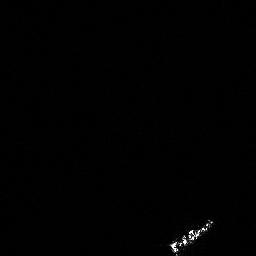ship: (168, 216, 216, 256)
